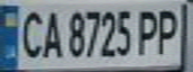2: (100, 5, 121, 57)
5: (115, 5, 139, 57)
7: (81, 6, 103, 57)
8: (63, 6, 87, 58)
A: (36, 4, 66, 60)
C: (15, 3, 48, 60)
P: (151, 3, 184, 56), (133, 4, 163, 56)
